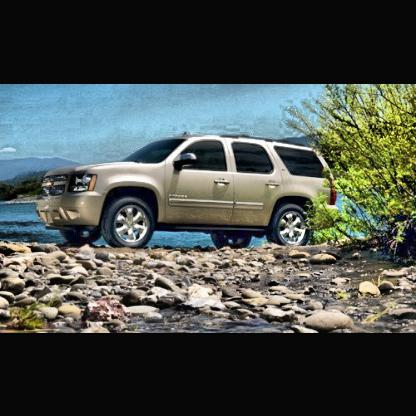Chevrolet Tahoe Hybrid SUV 2012: (35, 133, 341, 249)
